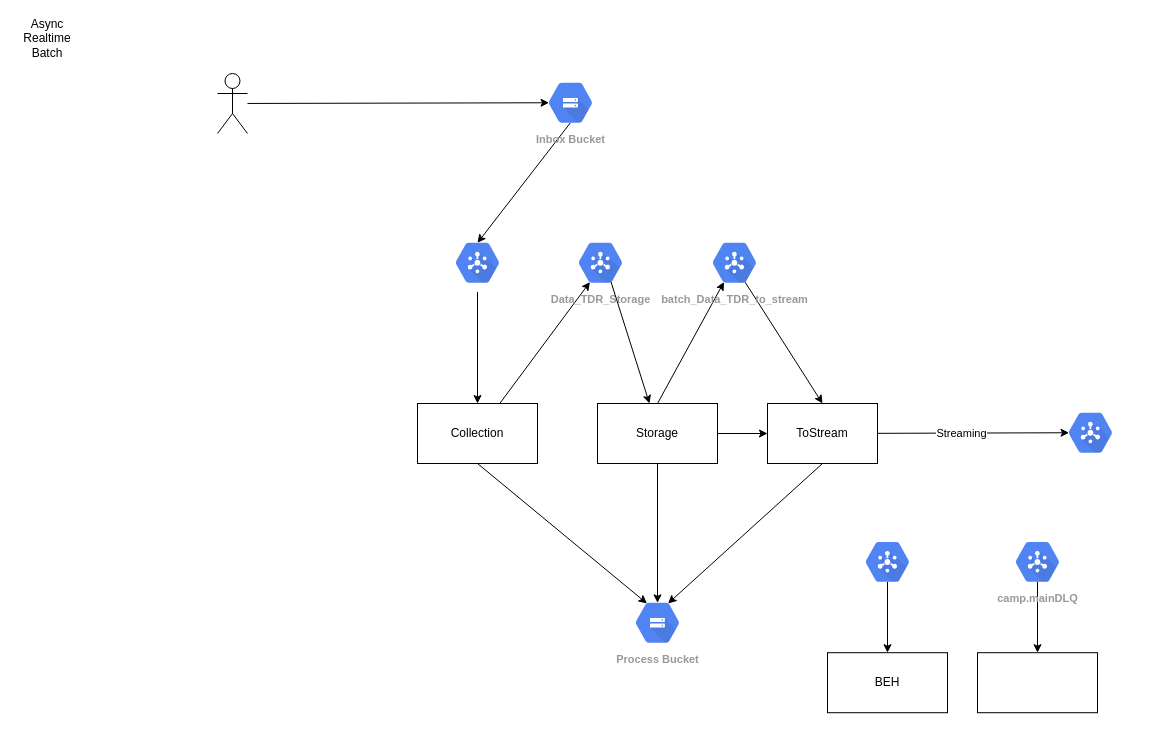
This 1158x731 diagram has some shape labels left out. Each missing label, with the box of its shape:
B2B.BEH: (854, 532, 920, 591)
Data_TDR_collection: (444, 233, 510, 292)
Data_TDR_external: (1057, 403, 1123, 462)
MZ NIFI: (216, 72, 248, 134)
PEH: (976, 652, 1098, 713)
